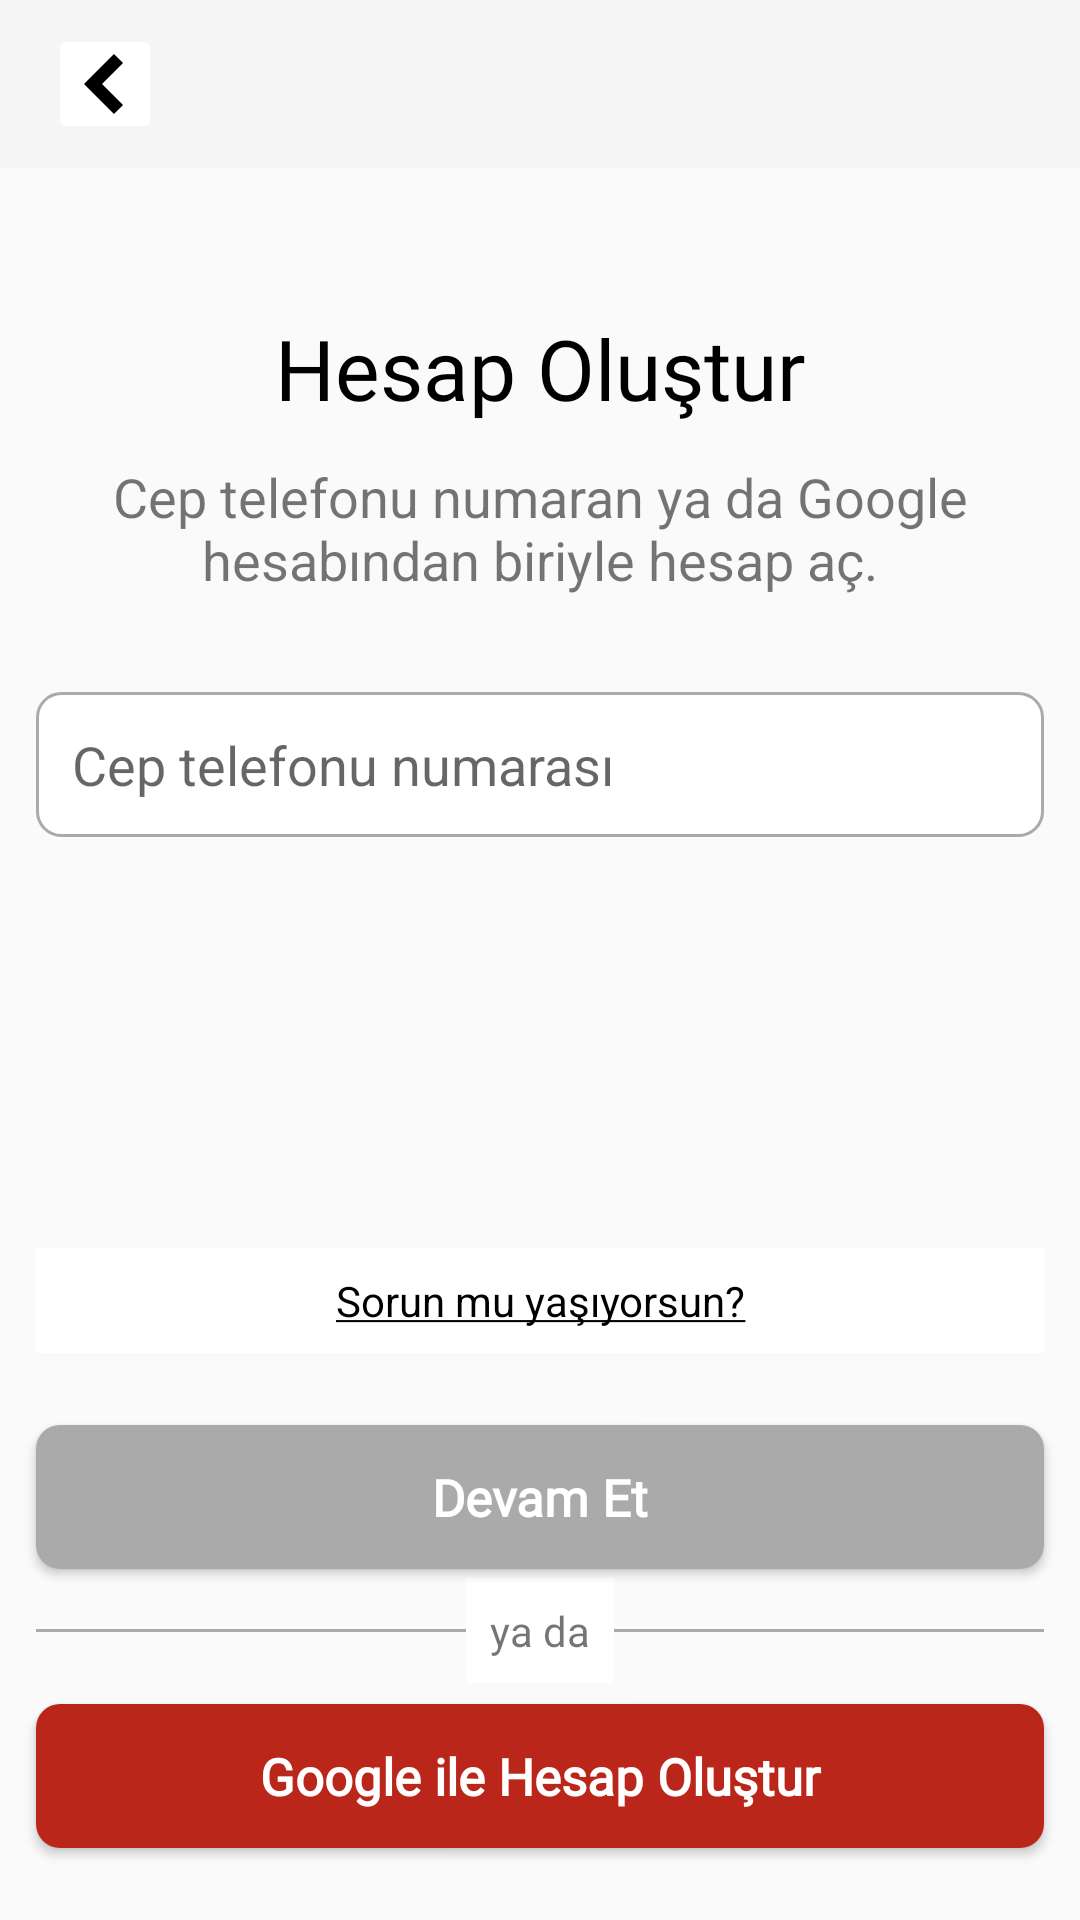

Where icons sit on this 1080*1920 app screen, as (x1, y1, x2, y2):
arrow back: (60, 42, 150, 126)
